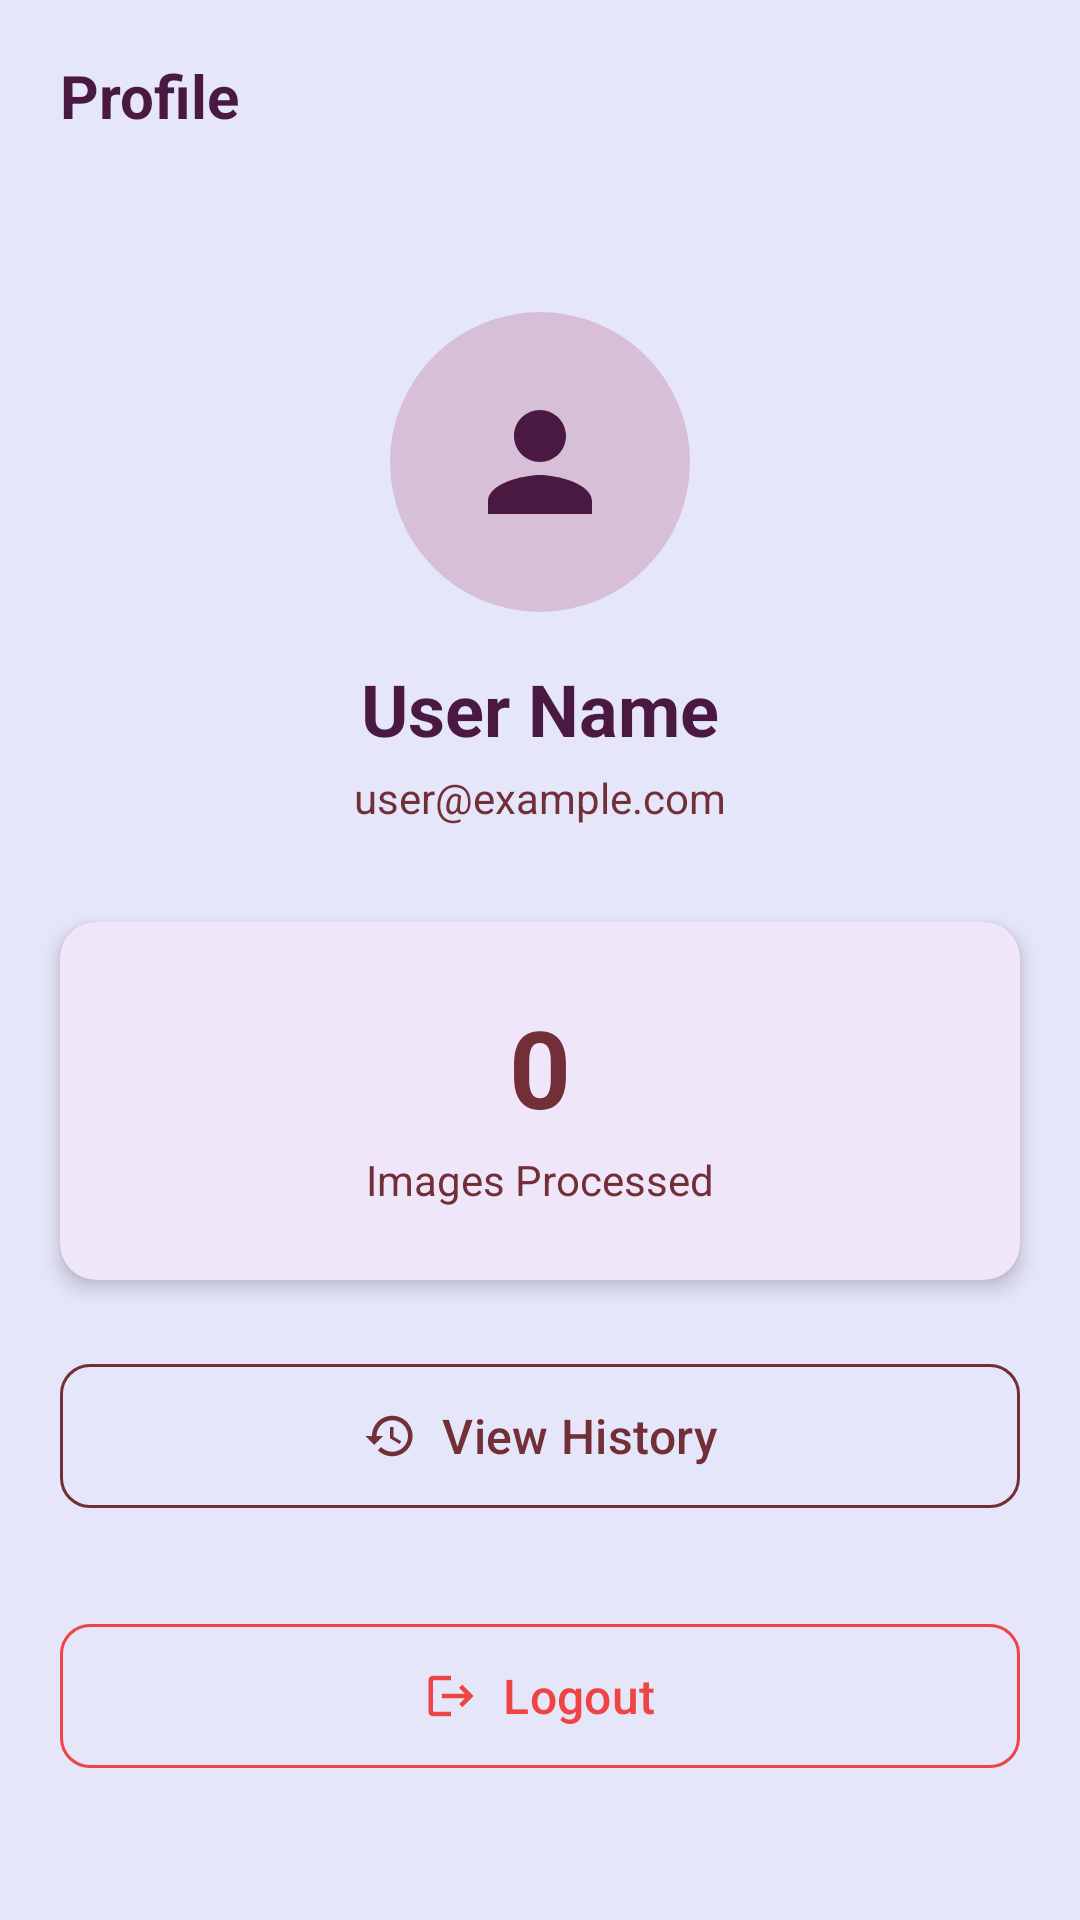

Named icons in this screenshot (1080*1920) and their bounding boxes, (x1, y1, x2, y2):
Profile: (390, 312, 690, 612)
